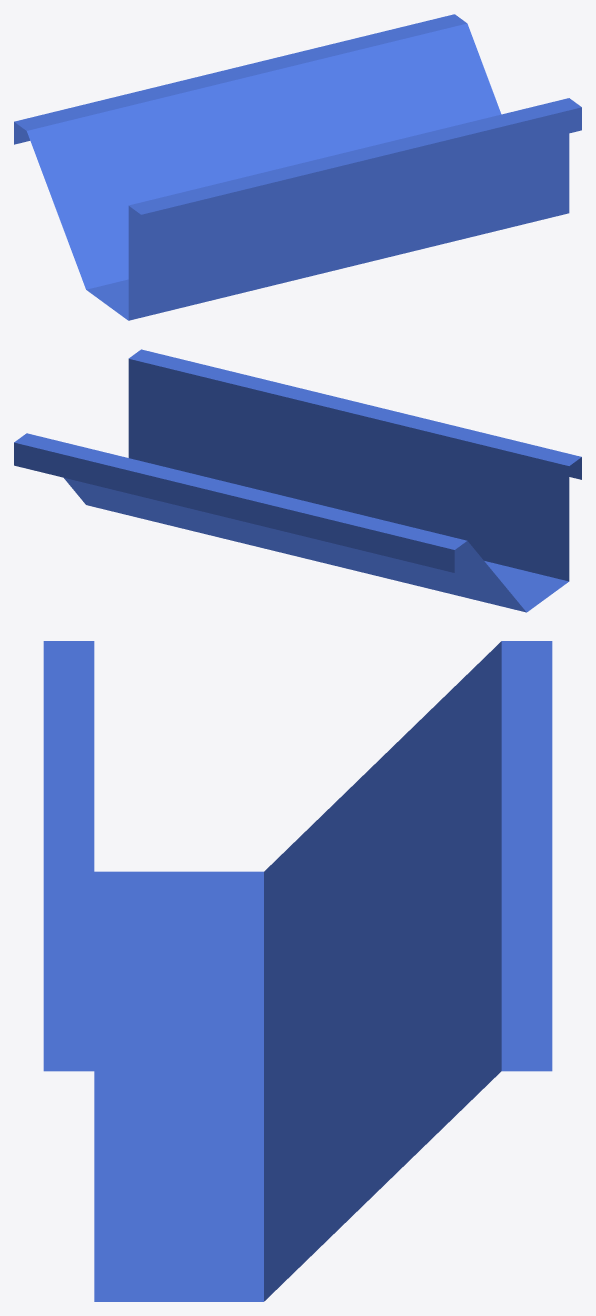
The model's file is Ceiling_2x1m_A.FBX.
The picture shows the model from 3 angles, top to bottom: view 1: azimuth 30°, elevation 25°; view 2: azimuth 150°, elevation 25°; view 3: azimuth 270°, elevation 25°; orthographic projection. The views are drawn at different scales.
Parts seen in each view (by area): view 1: Ceiling_2x1m_A; view 2: Ceiling_2x1m_A; view 3: Ceiling_2x1m_A.
Part boxes in pixels (box(x1,y1,x2,y2)): Ceiling_2x1m_A: box(14, 14, 581, 320); Ceiling_2x1m_A: box(14, 349, 581, 612); Ceiling_2x1m_A: box(43, 641, 552, 1301).
Size of the model in its own units: 200 by 50 by 100.
